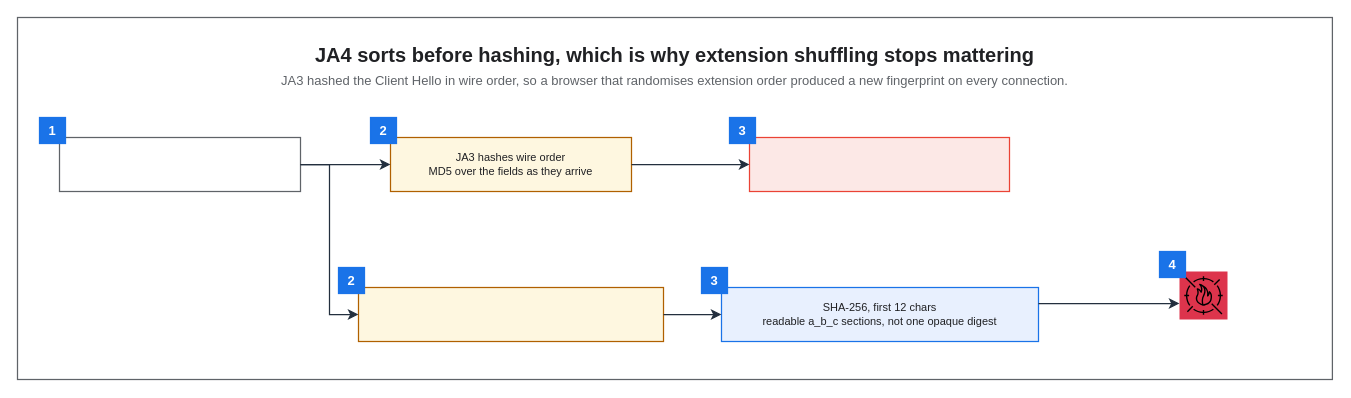
Image size: 1351x398. Some labels were removed from this diagram. Here are the shapes that lost their labels. From the top down, the box of each, then its label:
(58, 136, 301, 192): TLS Client Hello version, ciphers, extensions, ALPN
(748, 136, 1010, 192): Fingerprint changes per connection randomised extension order defeats it
(357, 286, 664, 342): JA4 sorts by hex value GREASE, SNI and ALPN removed from the counts
(1179, 271, 1227, 319): WAF rule match, rate limit, or challenge
